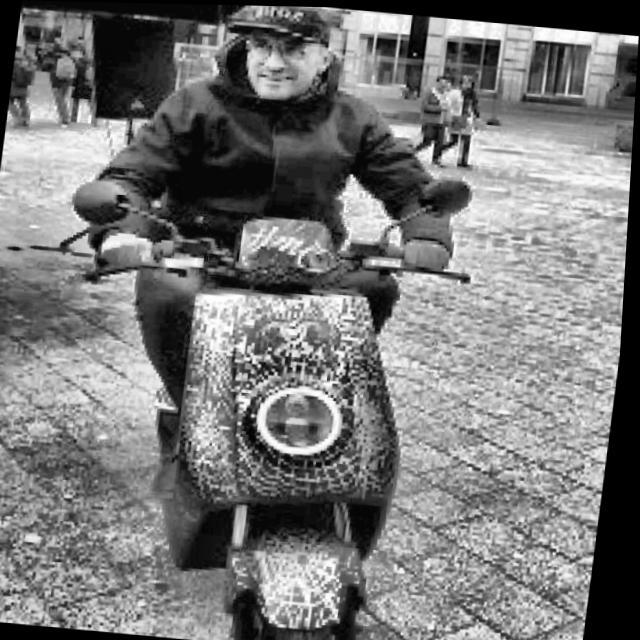motorcycle: (14, 134, 496, 640)
